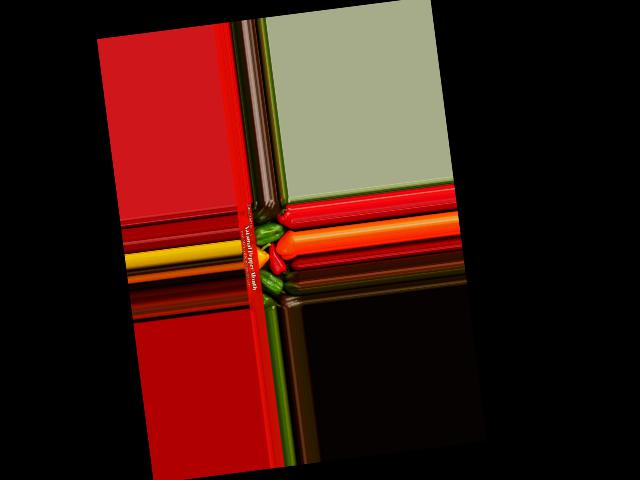bell_pepper: (250, 198, 281, 223)
